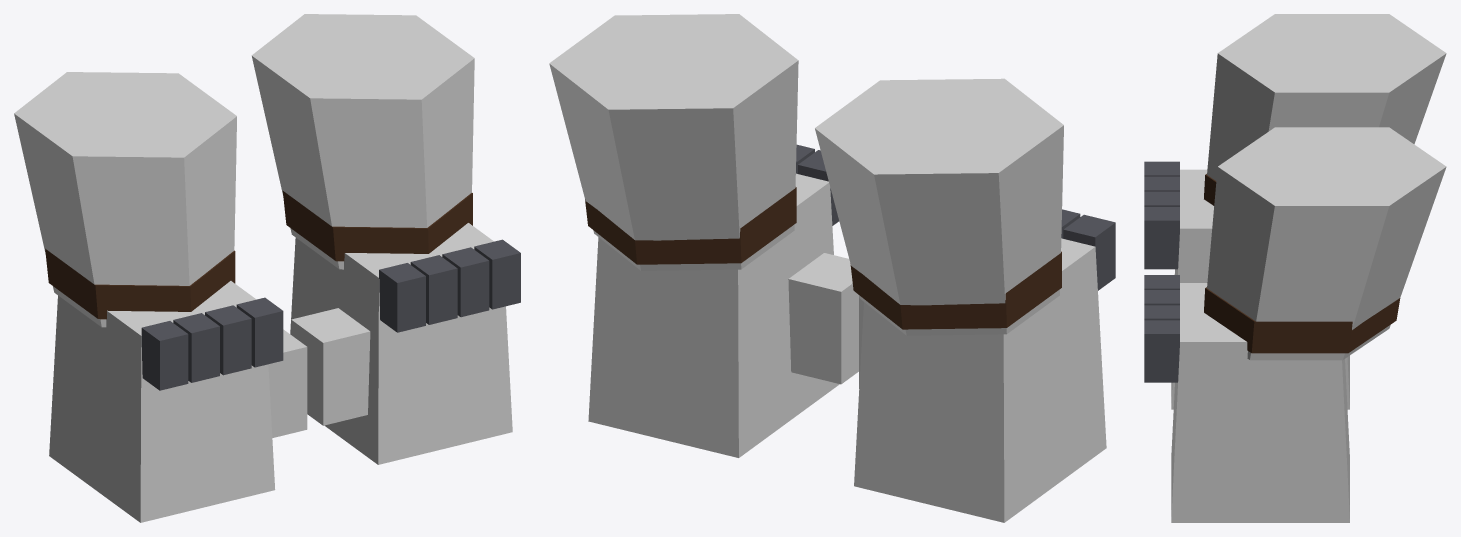
File: armor_gloves.glb
The picture shows the model from 3 angles, left to right: view 1: azimuth 30°, elevation 25°; view 2: azimuth 150°, elevation 25°; view 3: azimuth 270°, elevation 25°; orthographic projection. The views are drawn at different scales.
Visible parts, largest first — view 1: armor_gloves; view 2: armor_gloves; view 3: armor_gloves.
Boxes of the visible parts, bbox=[...] form: armor_gloves: bbox=[14, 14, 520, 522]; armor_gloves: bbox=[549, 14, 1115, 522]; armor_gloves: bbox=[1144, 14, 1446, 522].
Size of the model in its own units: 0.2539 by 0.2 by 0.169.
